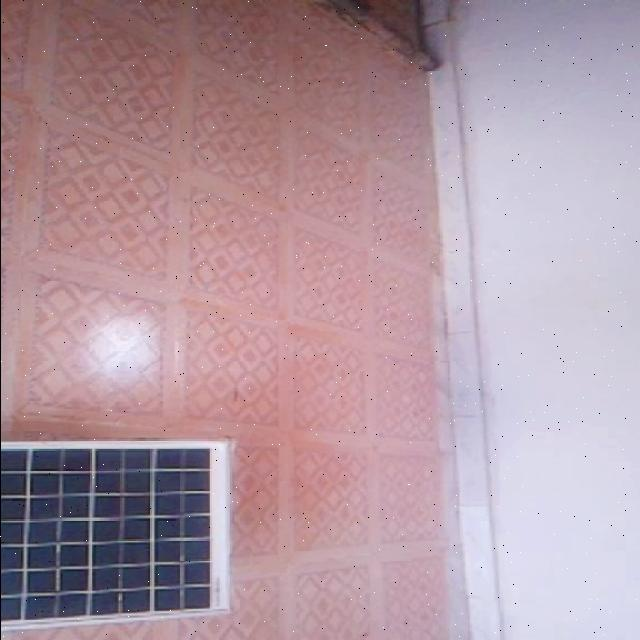Normal Solar Panel: (0, 442, 228, 632)
